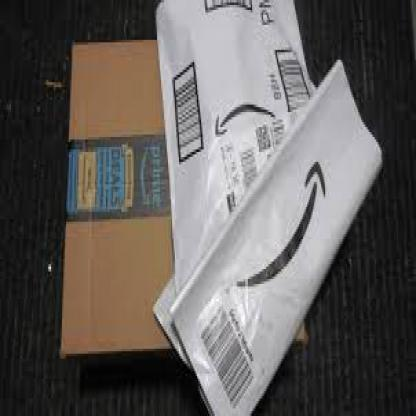package: (59, 35, 196, 368)
